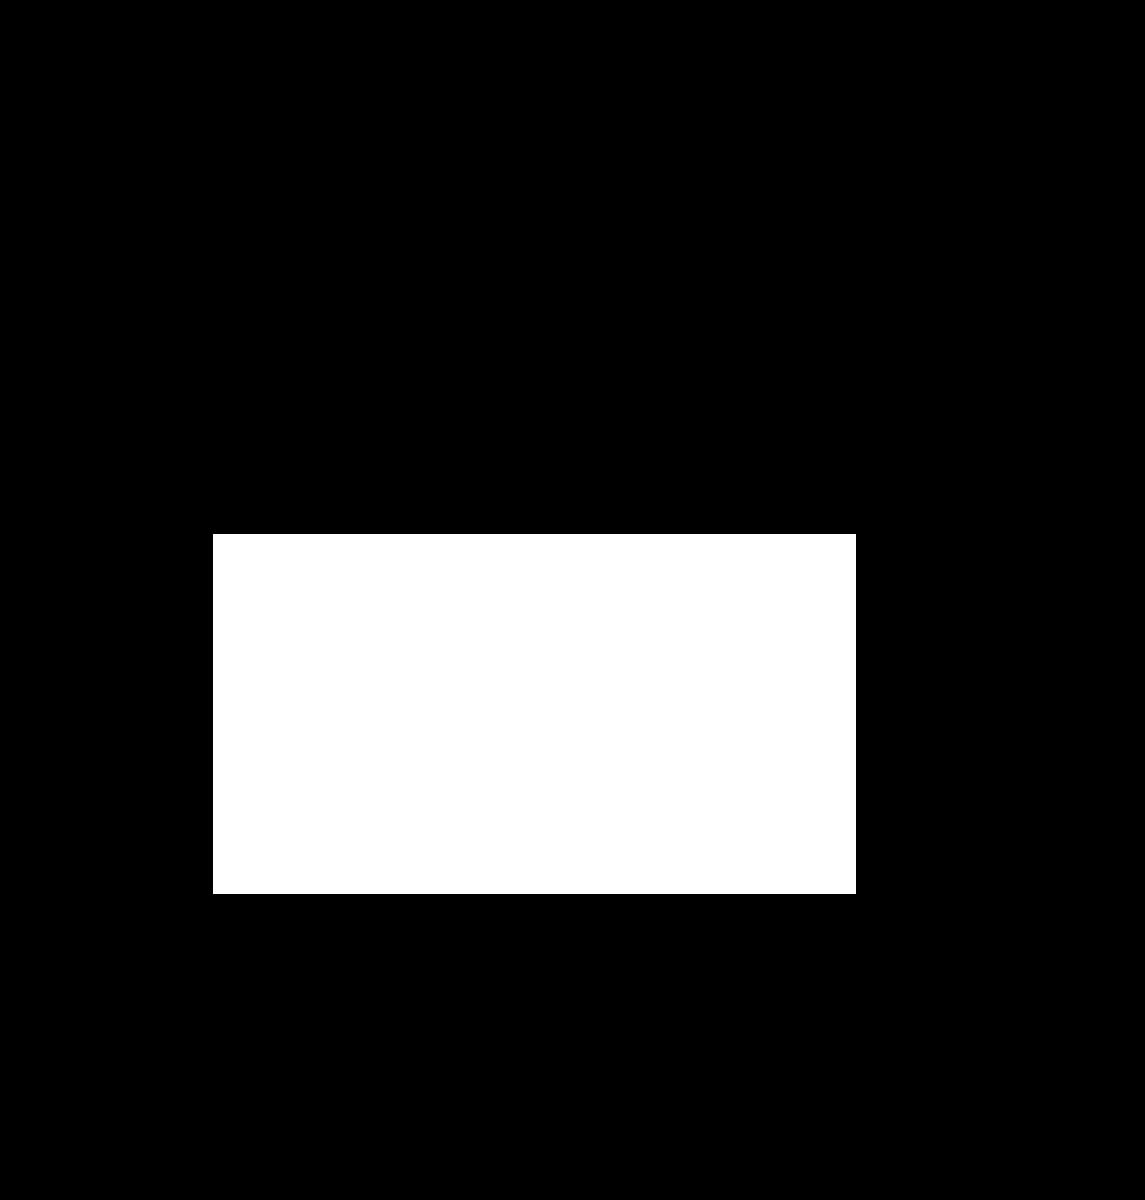table: (213, 534, 856, 894)
